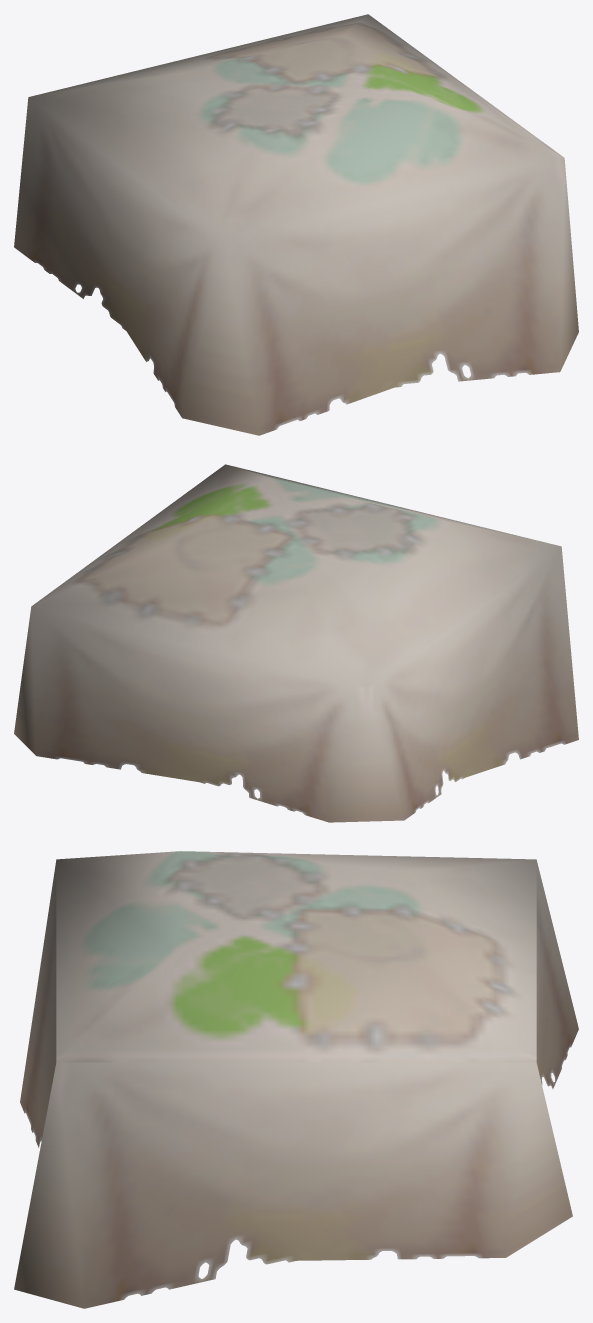
3 renders of one model, top to bottom at view 1: azimuth 30°, elevation 25°; view 2: azimuth 150°, elevation 25°; view 3: azimuth 270°, elevation 25°, orthographic. The views are drawn at different scales.
Visible parts, largest first — view 1: stranger.model-Mesh[0]; view 2: stranger.model-Mesh[0]; view 3: stranger.model-Mesh[0].
Boxes of the visible parts, x1,y1,x2,y2 form: stranger.model-Mesh[0]: [14, 14, 578, 435]; stranger.model-Mesh[0]: [14, 464, 578, 822]; stranger.model-Mesh[0]: [14, 851, 578, 1308].
Size of the model in its own units: 1.22 by 0.7022 by 1.22.
Materials: 1 (1 with a texture image).
